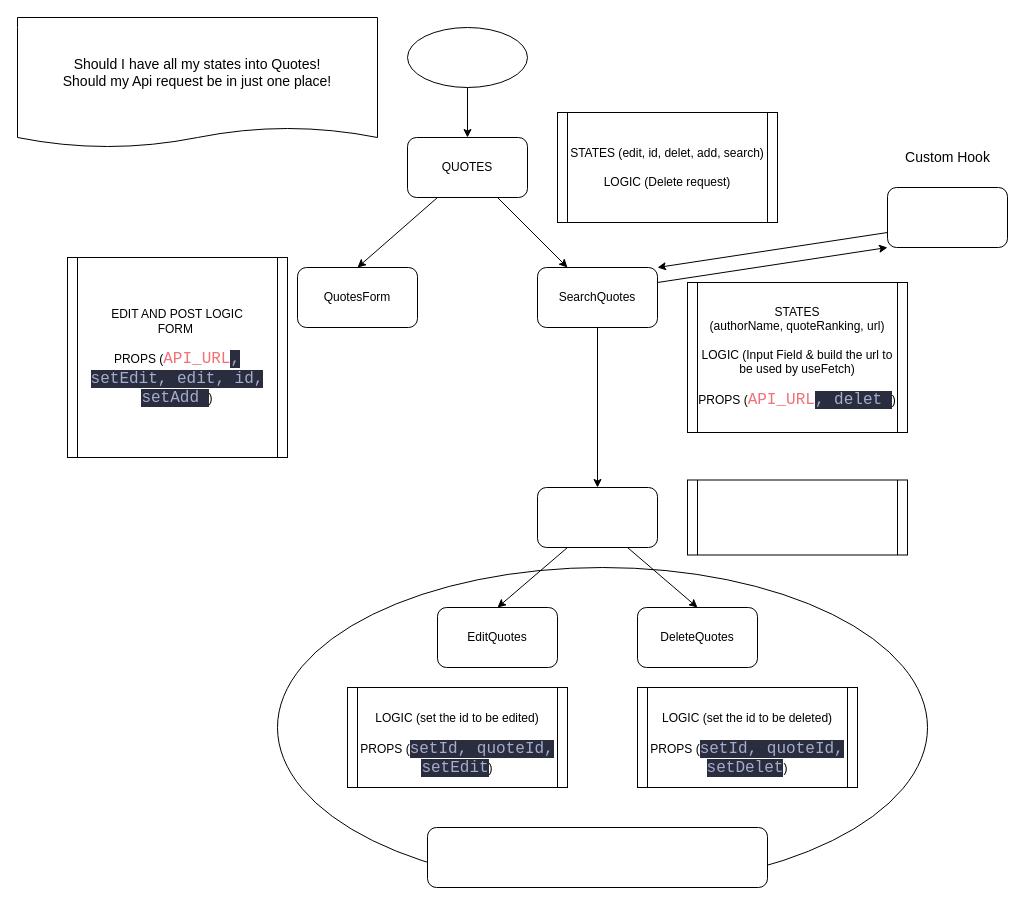
The diagram is 1025 pixels wide and 905 high, and some of its shapes have lost their labels. The centre of each missing label's shape, as x and y in pixels:
"APP" belongs at point 467,57.
"DisplayQuotes" belongs at point 597,517.
"LOGIC (map data and display quotes) PROPS ( data )" belongs at point 797,517.
"Must be converted into only one component!" belongs at point 597,857.
"useFetch() search data required" belongs at point 947,217.
